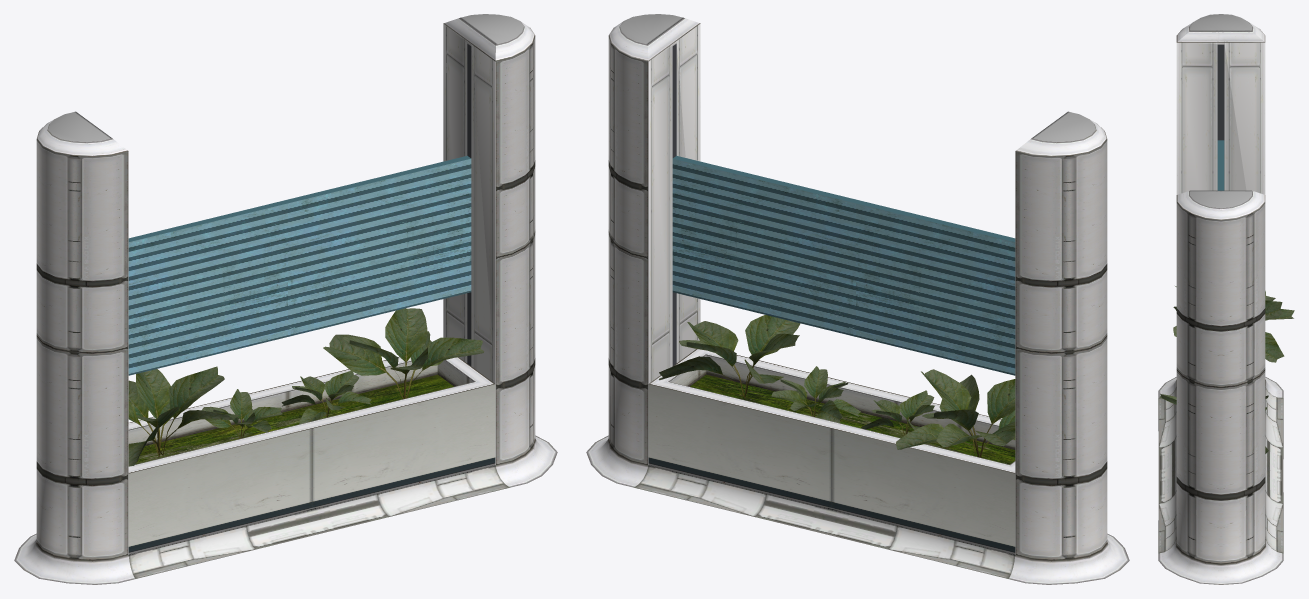
File: STA20_officedivider01.FBX
The picture shows the model from 3 angles, left to right: view 1: azimuth 30°, elevation 25°; view 2: azimuth 150°, elevation 25°; view 3: azimuth 270°, elevation 25°; orthographic projection. The views are drawn at different scales.
Parts seen in each view (by area): view 1: STA20_officedivider01; view 2: STA20_officedivider01; view 3: STA20_officedivider01.
Part boxes in pixels (x1=…): STA20_officedivider01: x1=14, y1=14, x2=557, y2=584; STA20_officedivider01: x1=586, y1=14, x2=1129, y2=584; STA20_officedivider01: x1=1158, y1=14, x2=1294, y2=584.
Bounding box in the file's own units: 5.68 × 4.43 × 1.5.
